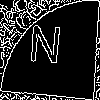N: (25, 24, 64, 73)
